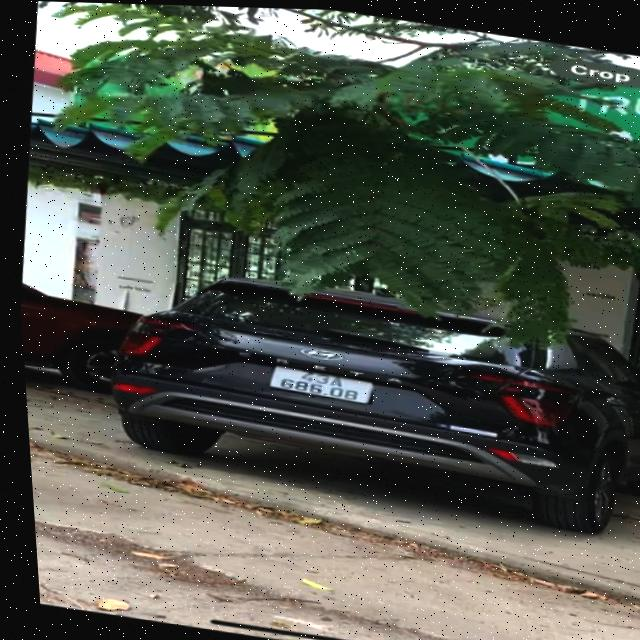car: (93, 240, 640, 533), (20, 293, 151, 400)
plate: (262, 358, 381, 414)
